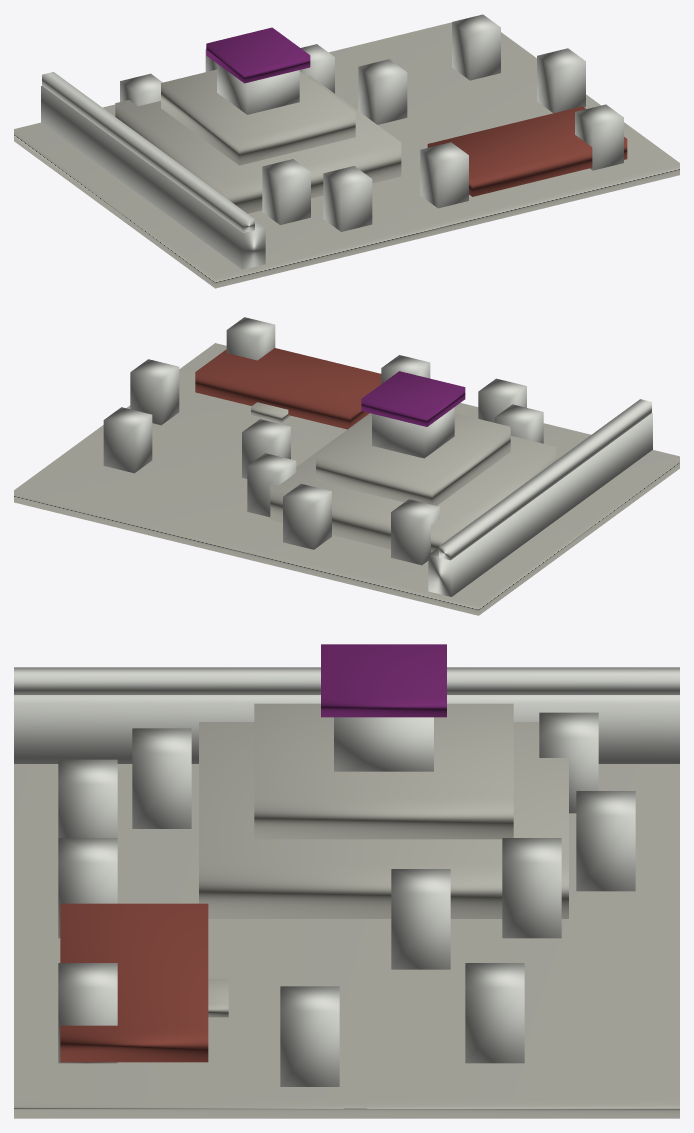
3 renders of one model, top to bottom at view 1: azimuth 30°, elevation 25°; view 2: azimuth 150°, elevation 25°; view 3: azimuth 270°, elevation 25°, orthographic. The views are drawn at different scales.
Parts seen in each view (by area): view 1: rocks_simplified, features_simplified; view 2: rocks_simplified, features_simplified; view 3: rocks_simplified, features_simplified.
Boxes of the visible parts, x1,y1,x2,y2 form: rocks_simplified: (14,22,679,288); features_simplified: (41,14,627,269); rocks_simplified: (14,343,679,615); features_simplified: (103,317,652,596); rocks_simplified: (14,703,679,1118); features_simplified: (14,644,679,1086).
Size of the model in its own units: 48 by 11.8 by 36.
Materials: 2 (2 with a texture image).
